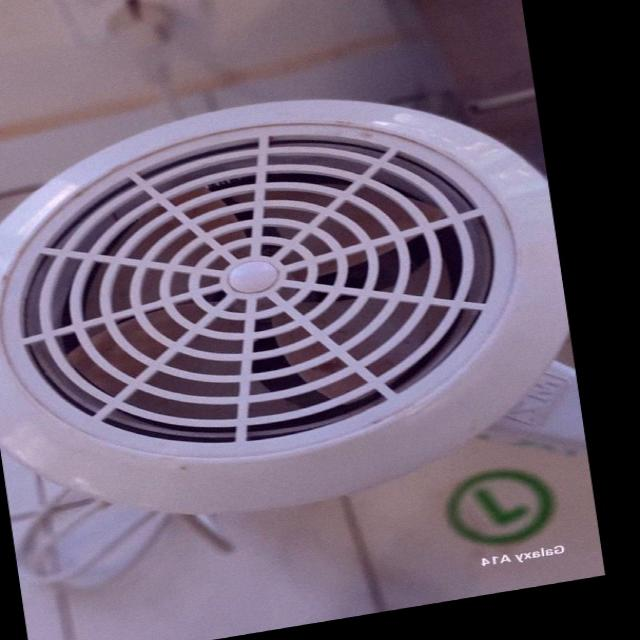Distilled Water Maker: (0, 50, 583, 552)
